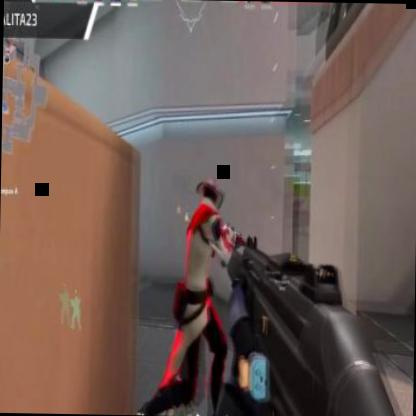enemy: (139, 173, 247, 416)
enemy_head: (200, 178, 218, 206)
